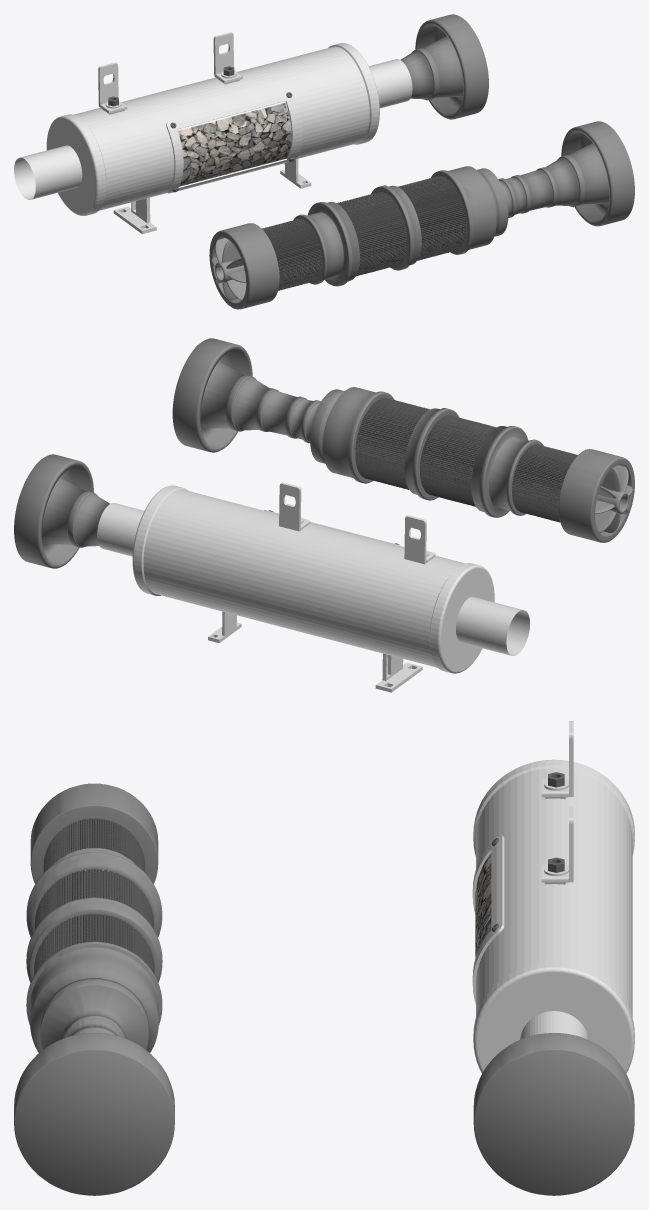
The model's file is silenziatore_tondo.glb.
3 renders of one model, top to bottom at view 1: azimuth 30°, elevation 25°; view 2: azimuth 150°, elevation 25°; view 3: azimuth 270°, elevation 25°, orthographic. The views are drawn at different scales.
Parts seen in each view (by area): view 1: Object_24, Object_40, Object_46; view 2: Object_24, Object_40; view 3: Object_24, Object_40, Object_46.
Part boxes in pixels (x1,y1,x2,y2): Object_24: (98, 14, 634, 309); Object_40: (14, 43, 412, 215); Object_46: (177, 101, 291, 186); Object_24: (14, 338, 634, 692); Object_40: (97, 485, 529, 673); Object_24: (14, 721, 634, 1195); Object_40: (473, 759, 634, 1073); Object_46: (475, 853, 491, 957).
Bounding box in the file's own units: 0.4495 × 0.1563 × 0.349.
4 materials, 4 textured.
